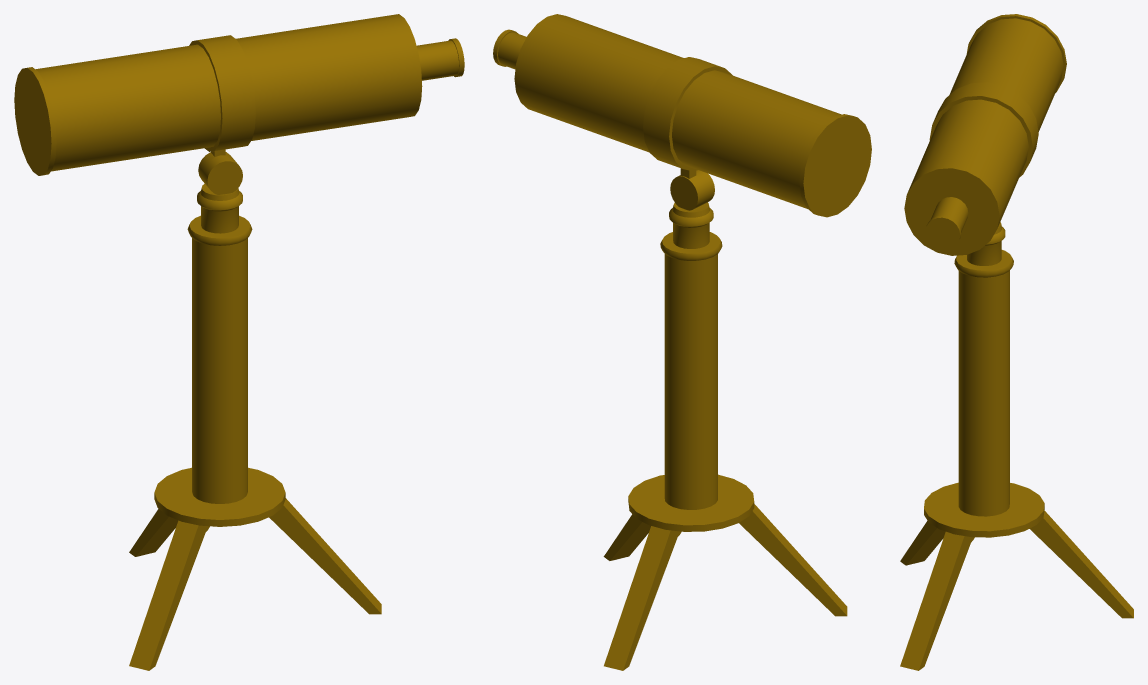
File: obj_Telescope.fbx
3 views of the same model, side by side, from view 1: azimuth 30°, elevation 25°; view 2: azimuth 150°, elevation 25°; view 3: azimuth 270°, elevation 25° (orthographic). The views are drawn at different scales.
Visible parts, largest first — view 1: pCylinder4, pCylinder5, pCube131 (×3), pCylinder14, pCylinder8, pCylinder13, pCylinder6, pCylinder11, pCylinder7, pCylinder10; view 2: pCylinder4, pCylinder5, pCube131 (×3), pCylinder13, pCylinder14, pCylinder8, pCylinder6, pCylinder9, pCylinder10, pCylinder11; view 3: pCylinder4, pCylinder5, pCube131 (×3), pCylinder14, pCylinder8, pCylinder12, pCylinder10, pCylinder6, pCylinder13, pCylinder11.
Boxes of the visible parts, x1,y1,x2,y2 form: pCylinder4: [35, 14, 422, 171]; pCylinder5: [192, 238, 247, 503]; pCube131 (×3): [129, 498, 381, 670]; pCylinder14: [154, 467, 285, 526]; pCylinder8: [189, 35, 255, 151]; pCylinder13: [14, 67, 56, 175]; pCylinder6: [197, 183, 242, 233]; pCylinder11: [416, 40, 458, 80]; pCylinder7: [203, 156, 242, 194]; pCylinder10: [187, 215, 252, 245]; pCylinder4: [514, 14, 841, 208]; pCylinder5: [664, 254, 717, 509]; pCube131 (×3): [603, 504, 847, 670]; pCylinder13: [799, 114, 871, 217]; pCylinder14: [628, 474, 754, 531]; pCylinder8: [643, 57, 732, 171]; pCylinder6: [669, 202, 713, 248]; pCylinder9: [670, 168, 706, 210]; pCylinder10: [660, 232, 722, 260]; pCylinder11: [498, 32, 526, 69]; pCylinder4: [904, 18, 1063, 255]; pCylinder5: [958, 270, 1009, 516]; pCube131 (×3): [900, 510, 1133, 670]; pCylinder14: [924, 482, 1044, 537]; pCylinder8: [929, 82, 1038, 177]; pCylinder12: [925, 215, 960, 250]; pCylinder10: [954, 250, 1013, 277]; pCylinder6: [967, 222, 1005, 265]; pCylinder13: [966, 14, 1066, 92]; pCylinder11: [930, 197, 968, 232].
Bounding box in the file's own units: 1.7 × 2.33 × 0.9397.
